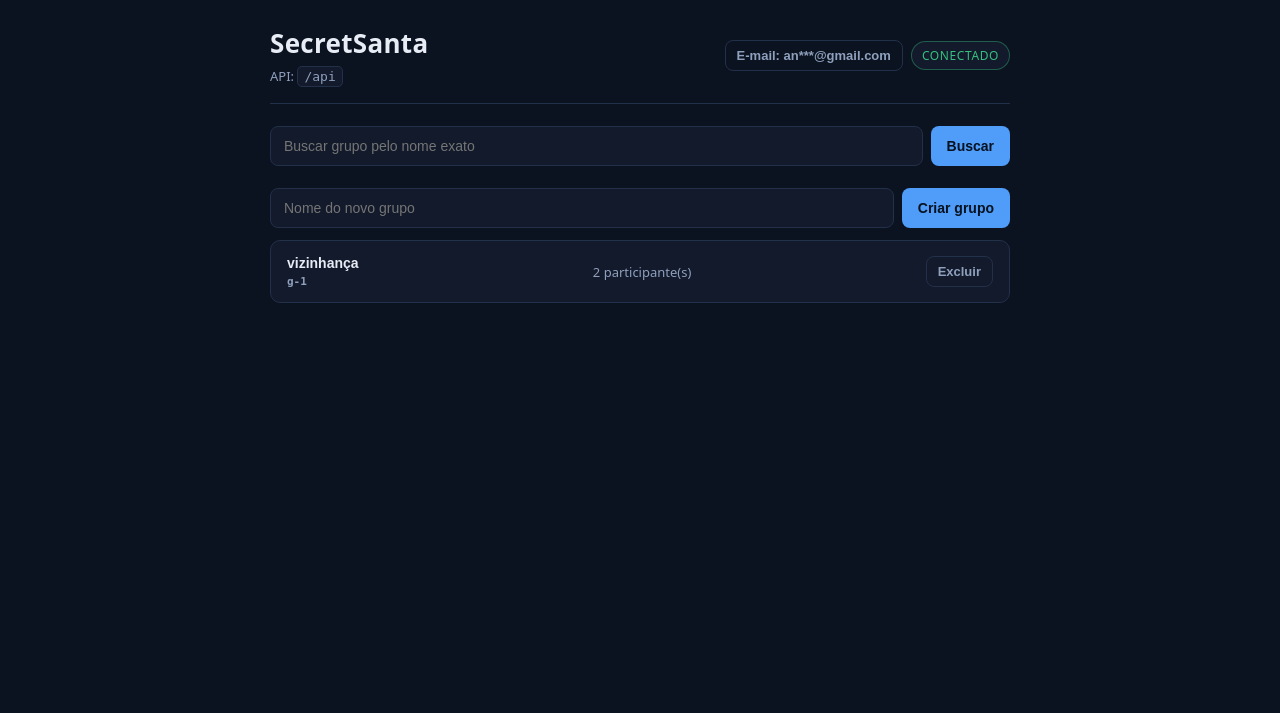
Test: sorteio › sorteia com envio e mostra os pares ocultos com o relatorio
The image size is (1280, 713).
Click the text "vizinhança" at coordinates (323, 263), box [287,255,359,271]
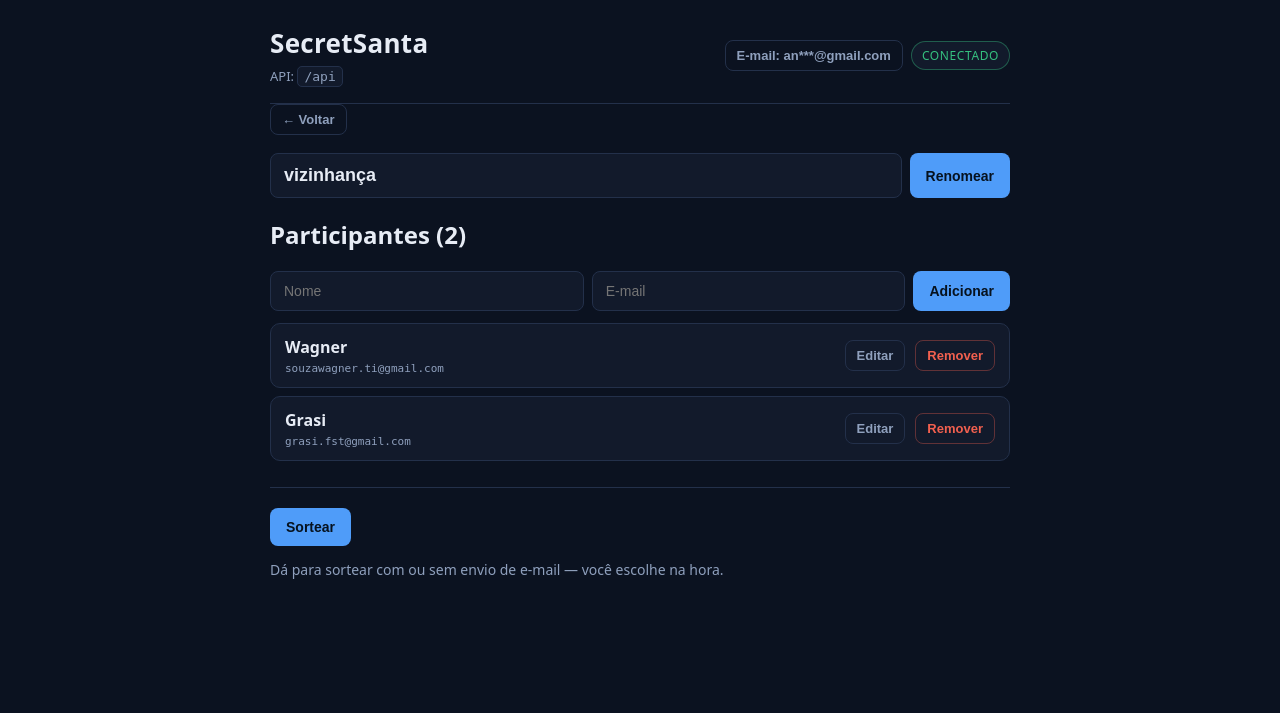
Now the text "Wagner" is shown, box [285,336,347,358]
Click the button "Sortear" at coordinates (310, 527), box [270,508,351,546]
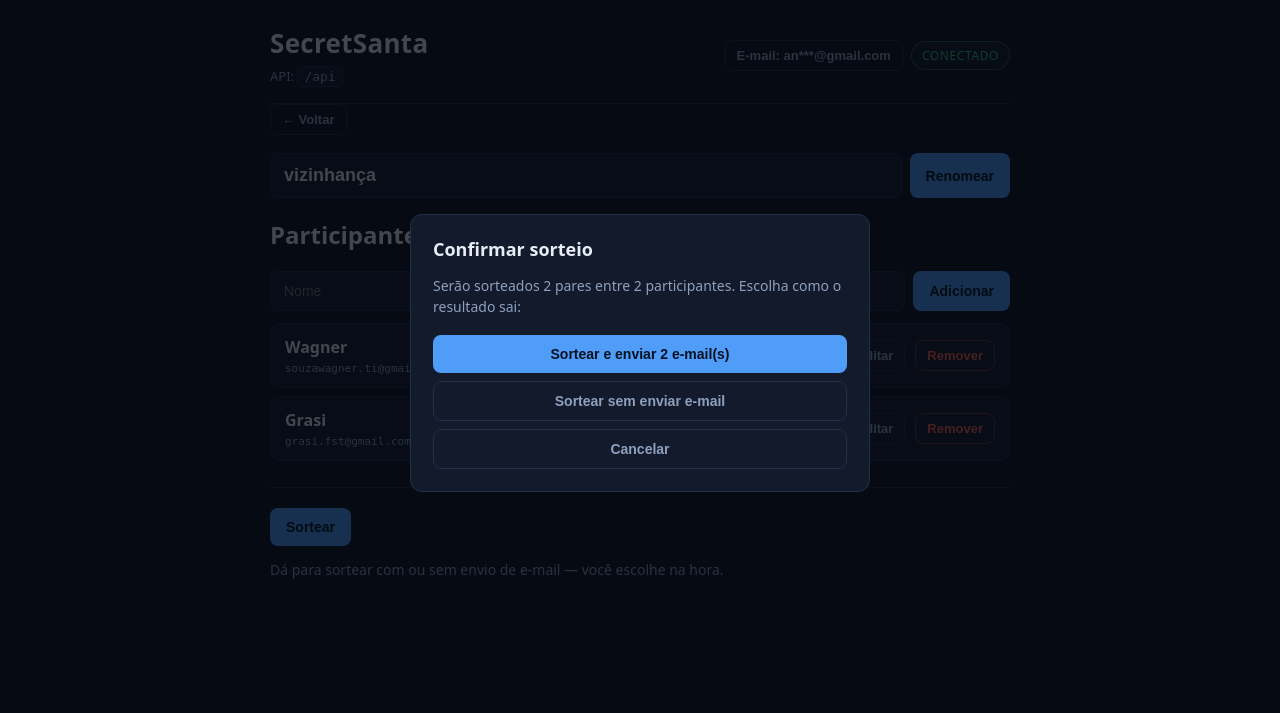
Now the heading "Confirmar sorteio" is shown, box [433,237,593,261]
Click the button "Sortear e enviar 2 e-mail(s)" at coordinates (640, 354), box [433,335,847,373]
(page scrolled)
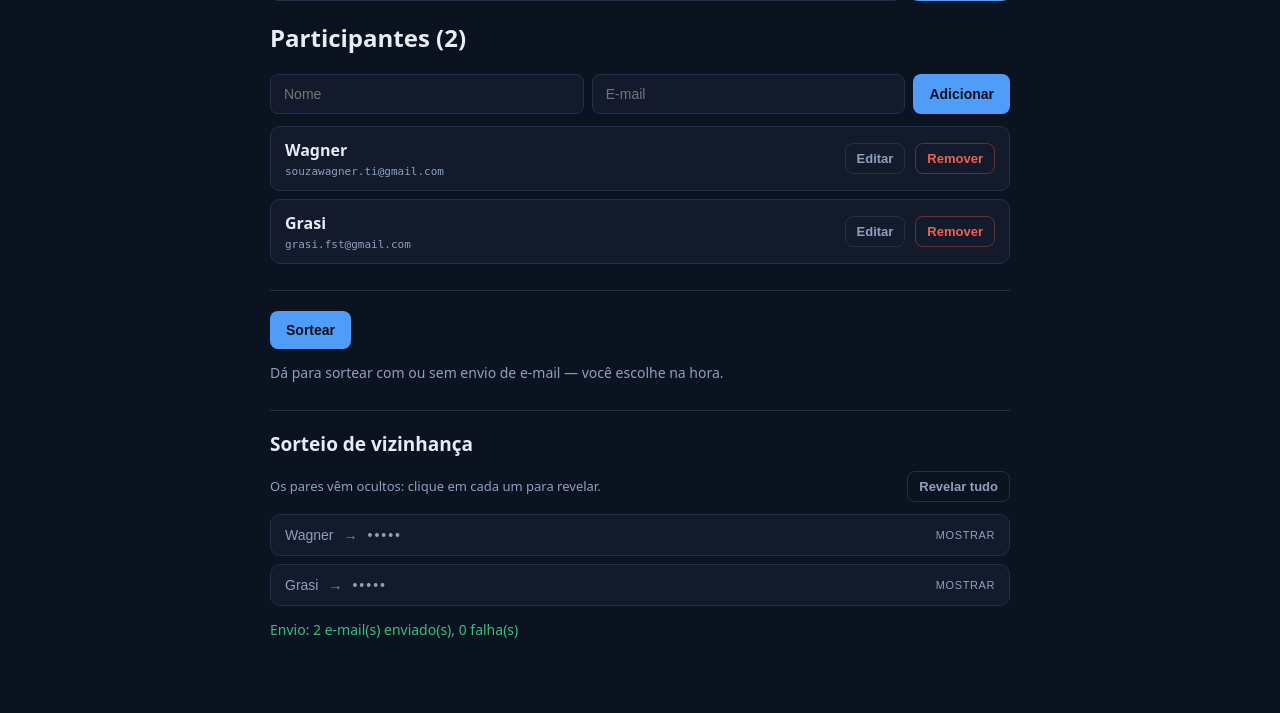
Now the heading "Sorteio de vizinhança" is shown, box [270,431,473,457]
Now the text "•••••" is shown 2 times, box [368,527,402,543]; [352,577,387,593]
Now the text "Envio: 2 e-mail(s) enviado(s), 0 falha(s)" is shown, box [270,620,518,639]
